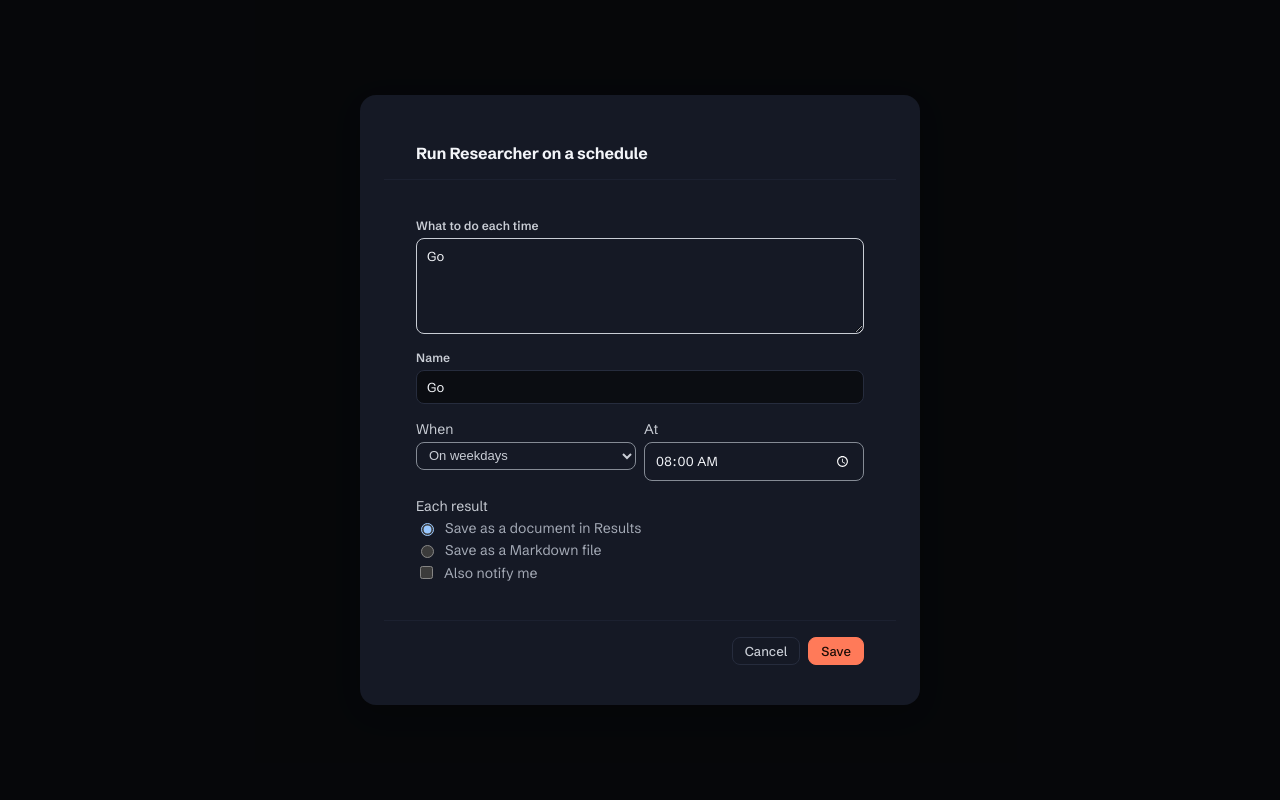
the approval › names the agent the routine runs as, not its step
Click the button "Save" at (836, 651), box [808, 637, 864, 665]
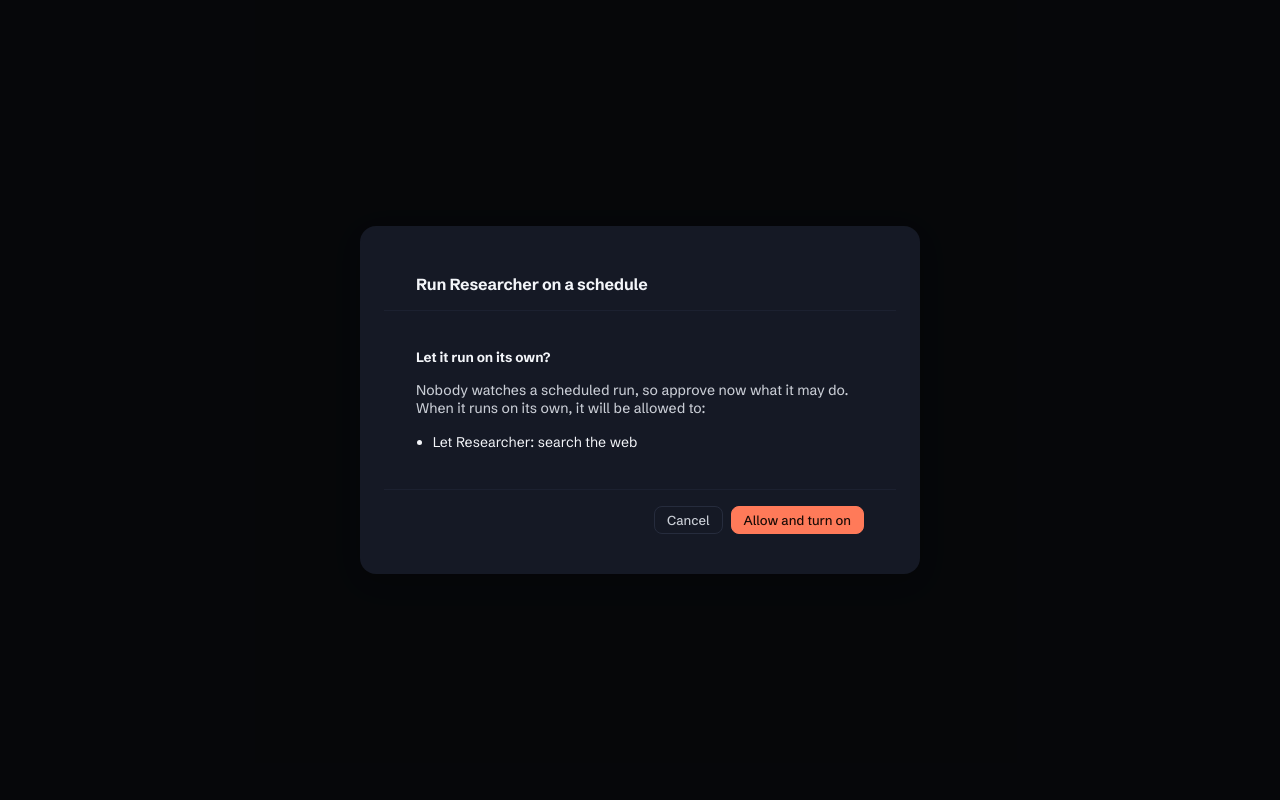
Result: the list item "Let Researcher: search the web" is shown at [433, 433, 637, 451]
